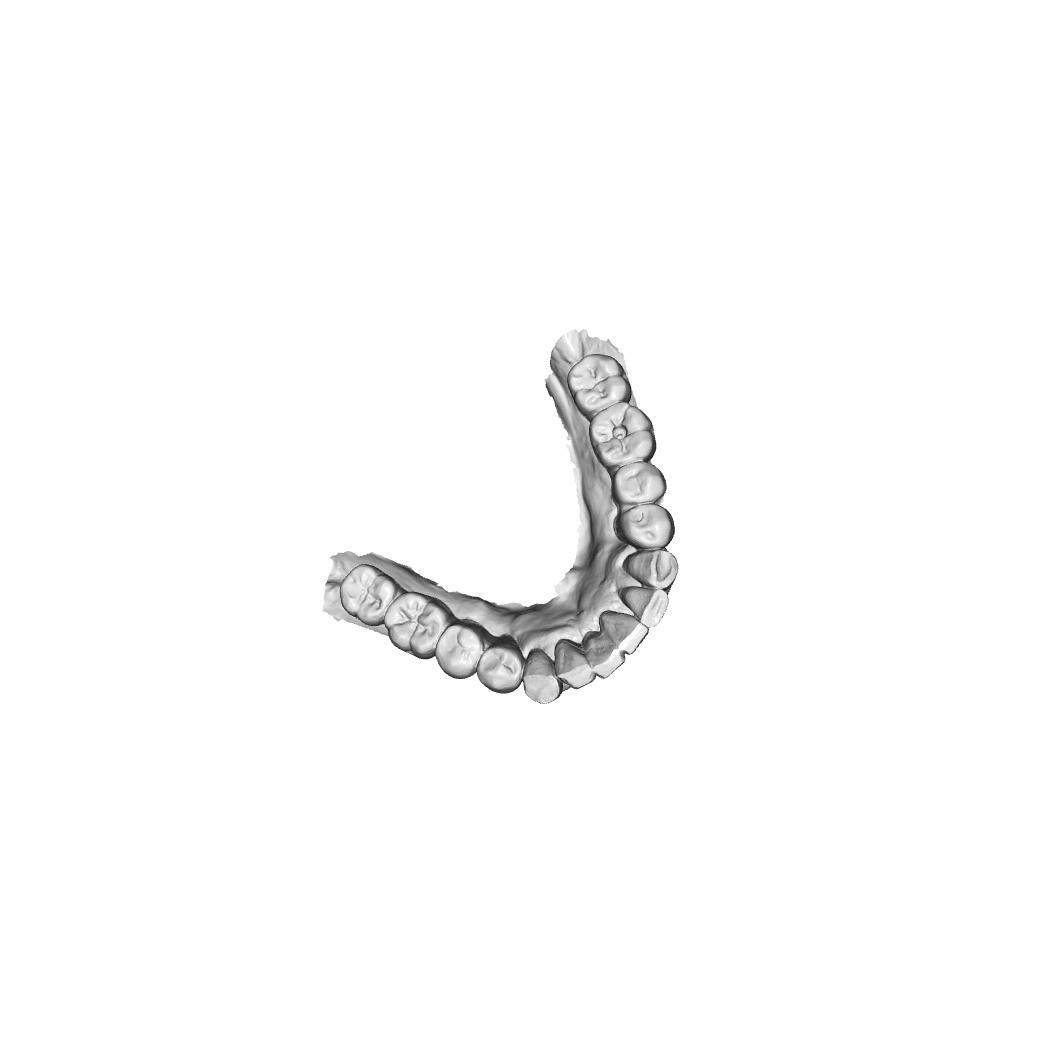canine: (521, 648, 564, 706), (623, 548, 680, 589)
incisor: (598, 609, 650, 655), (618, 586, 670, 629), (554, 638, 596, 690), (583, 630, 626, 679)
molar: (382, 591, 455, 661), (588, 402, 657, 473), (567, 354, 632, 419), (339, 563, 405, 627)
premolar: (433, 620, 487, 680), (476, 635, 524, 695), (614, 503, 675, 550), (610, 463, 668, 506)
